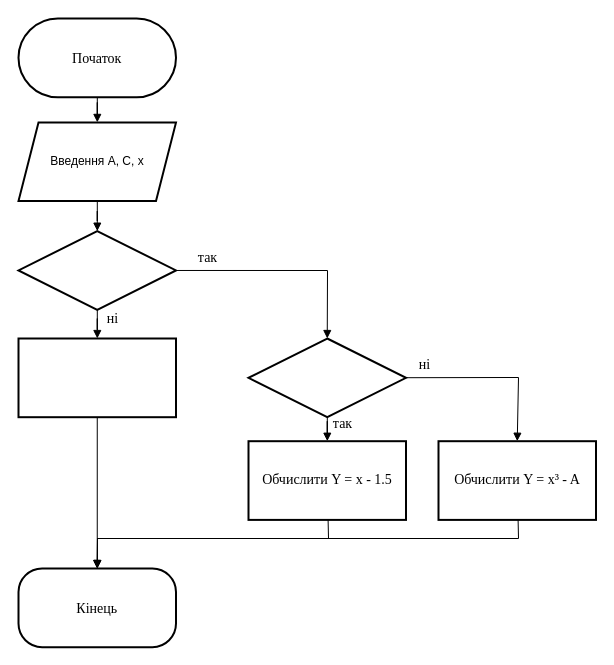
The diagram is 614 pixels wide and 665 high, and some of its shapes have lost their labels. The shapes that lost their labels are listed below. From the top down, each one's box as (x1, y1, x2, y2) in pixels, then its label:
(17, 230, 176, 310): A = C?
(17, 337, 176, 418): Обчислити x = 1.7 - e^0.35
(247, 337, 406, 418): x = A?
